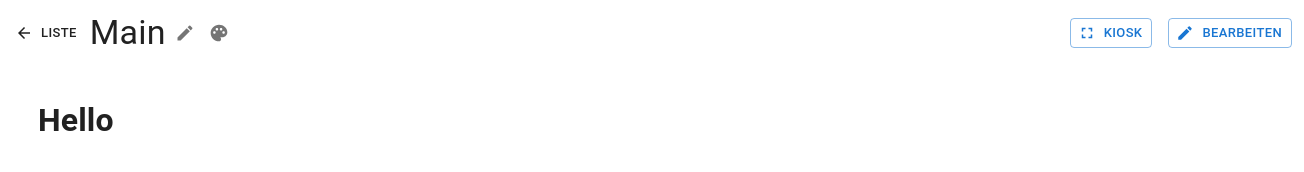
Test: DashboardPage › renames the dashboard via the inline rename flow
Expected: the heading "Main" is shown, x1=90 y1=12 x2=166 y2=54
Click the button named "Dashboard umbenennen": (185, 33) x1=170 y1=18 x2=200 y2=48
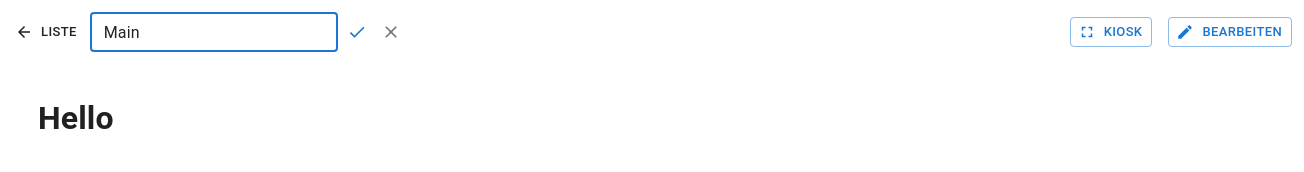
Expected: the field named "Neuer Dashboard-Name" holds "Main"
Replace the text in the field named "Neuer Dashboard-Name" with "Renamed": (214, 32) x1=90 y1=12 x2=338 y2=52
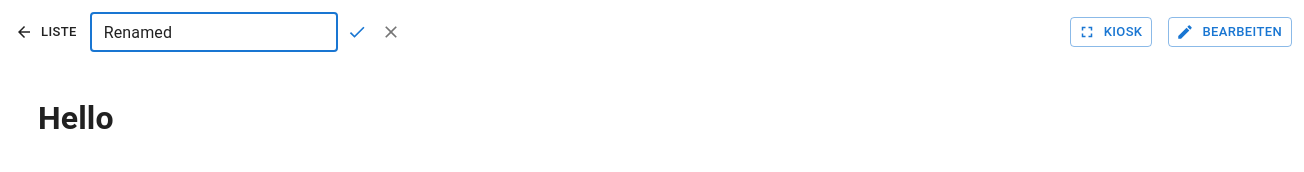
Click the button named "Umbenennen speichern": (357, 32) x1=342 y1=17 x2=372 y2=47
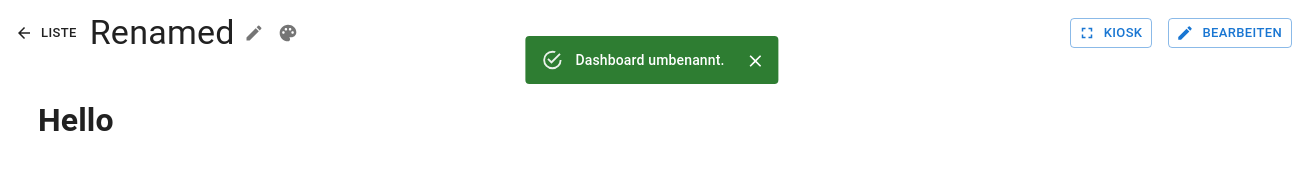
Expected: the heading "Renamed" is shown, x1=90 y1=12 x2=235 y2=54
